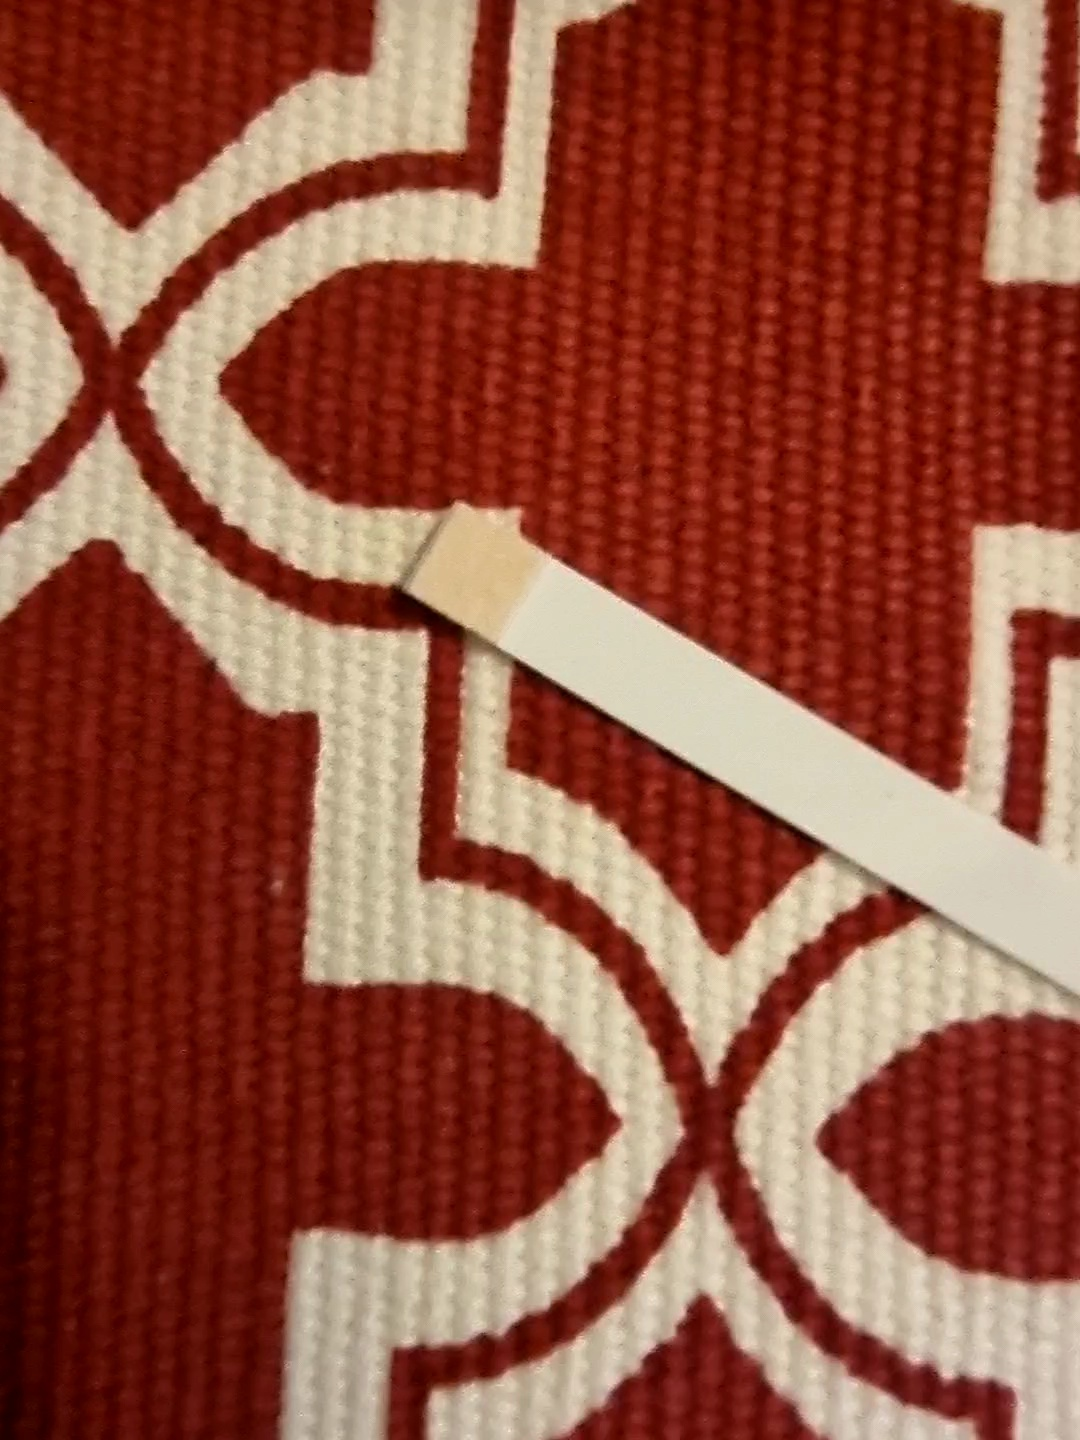keto-tip: (397, 494, 556, 658)
